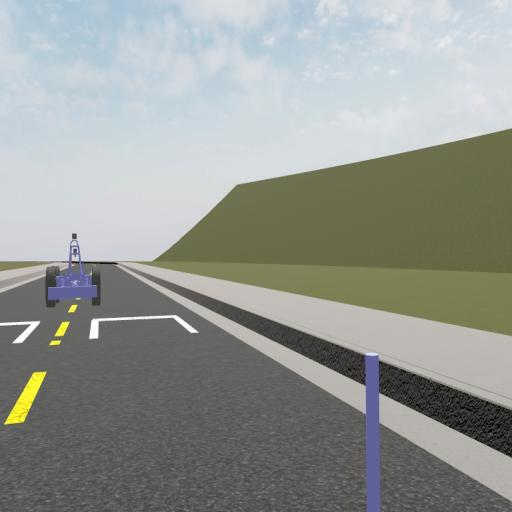ERP-42: (47, 235, 102, 306)
